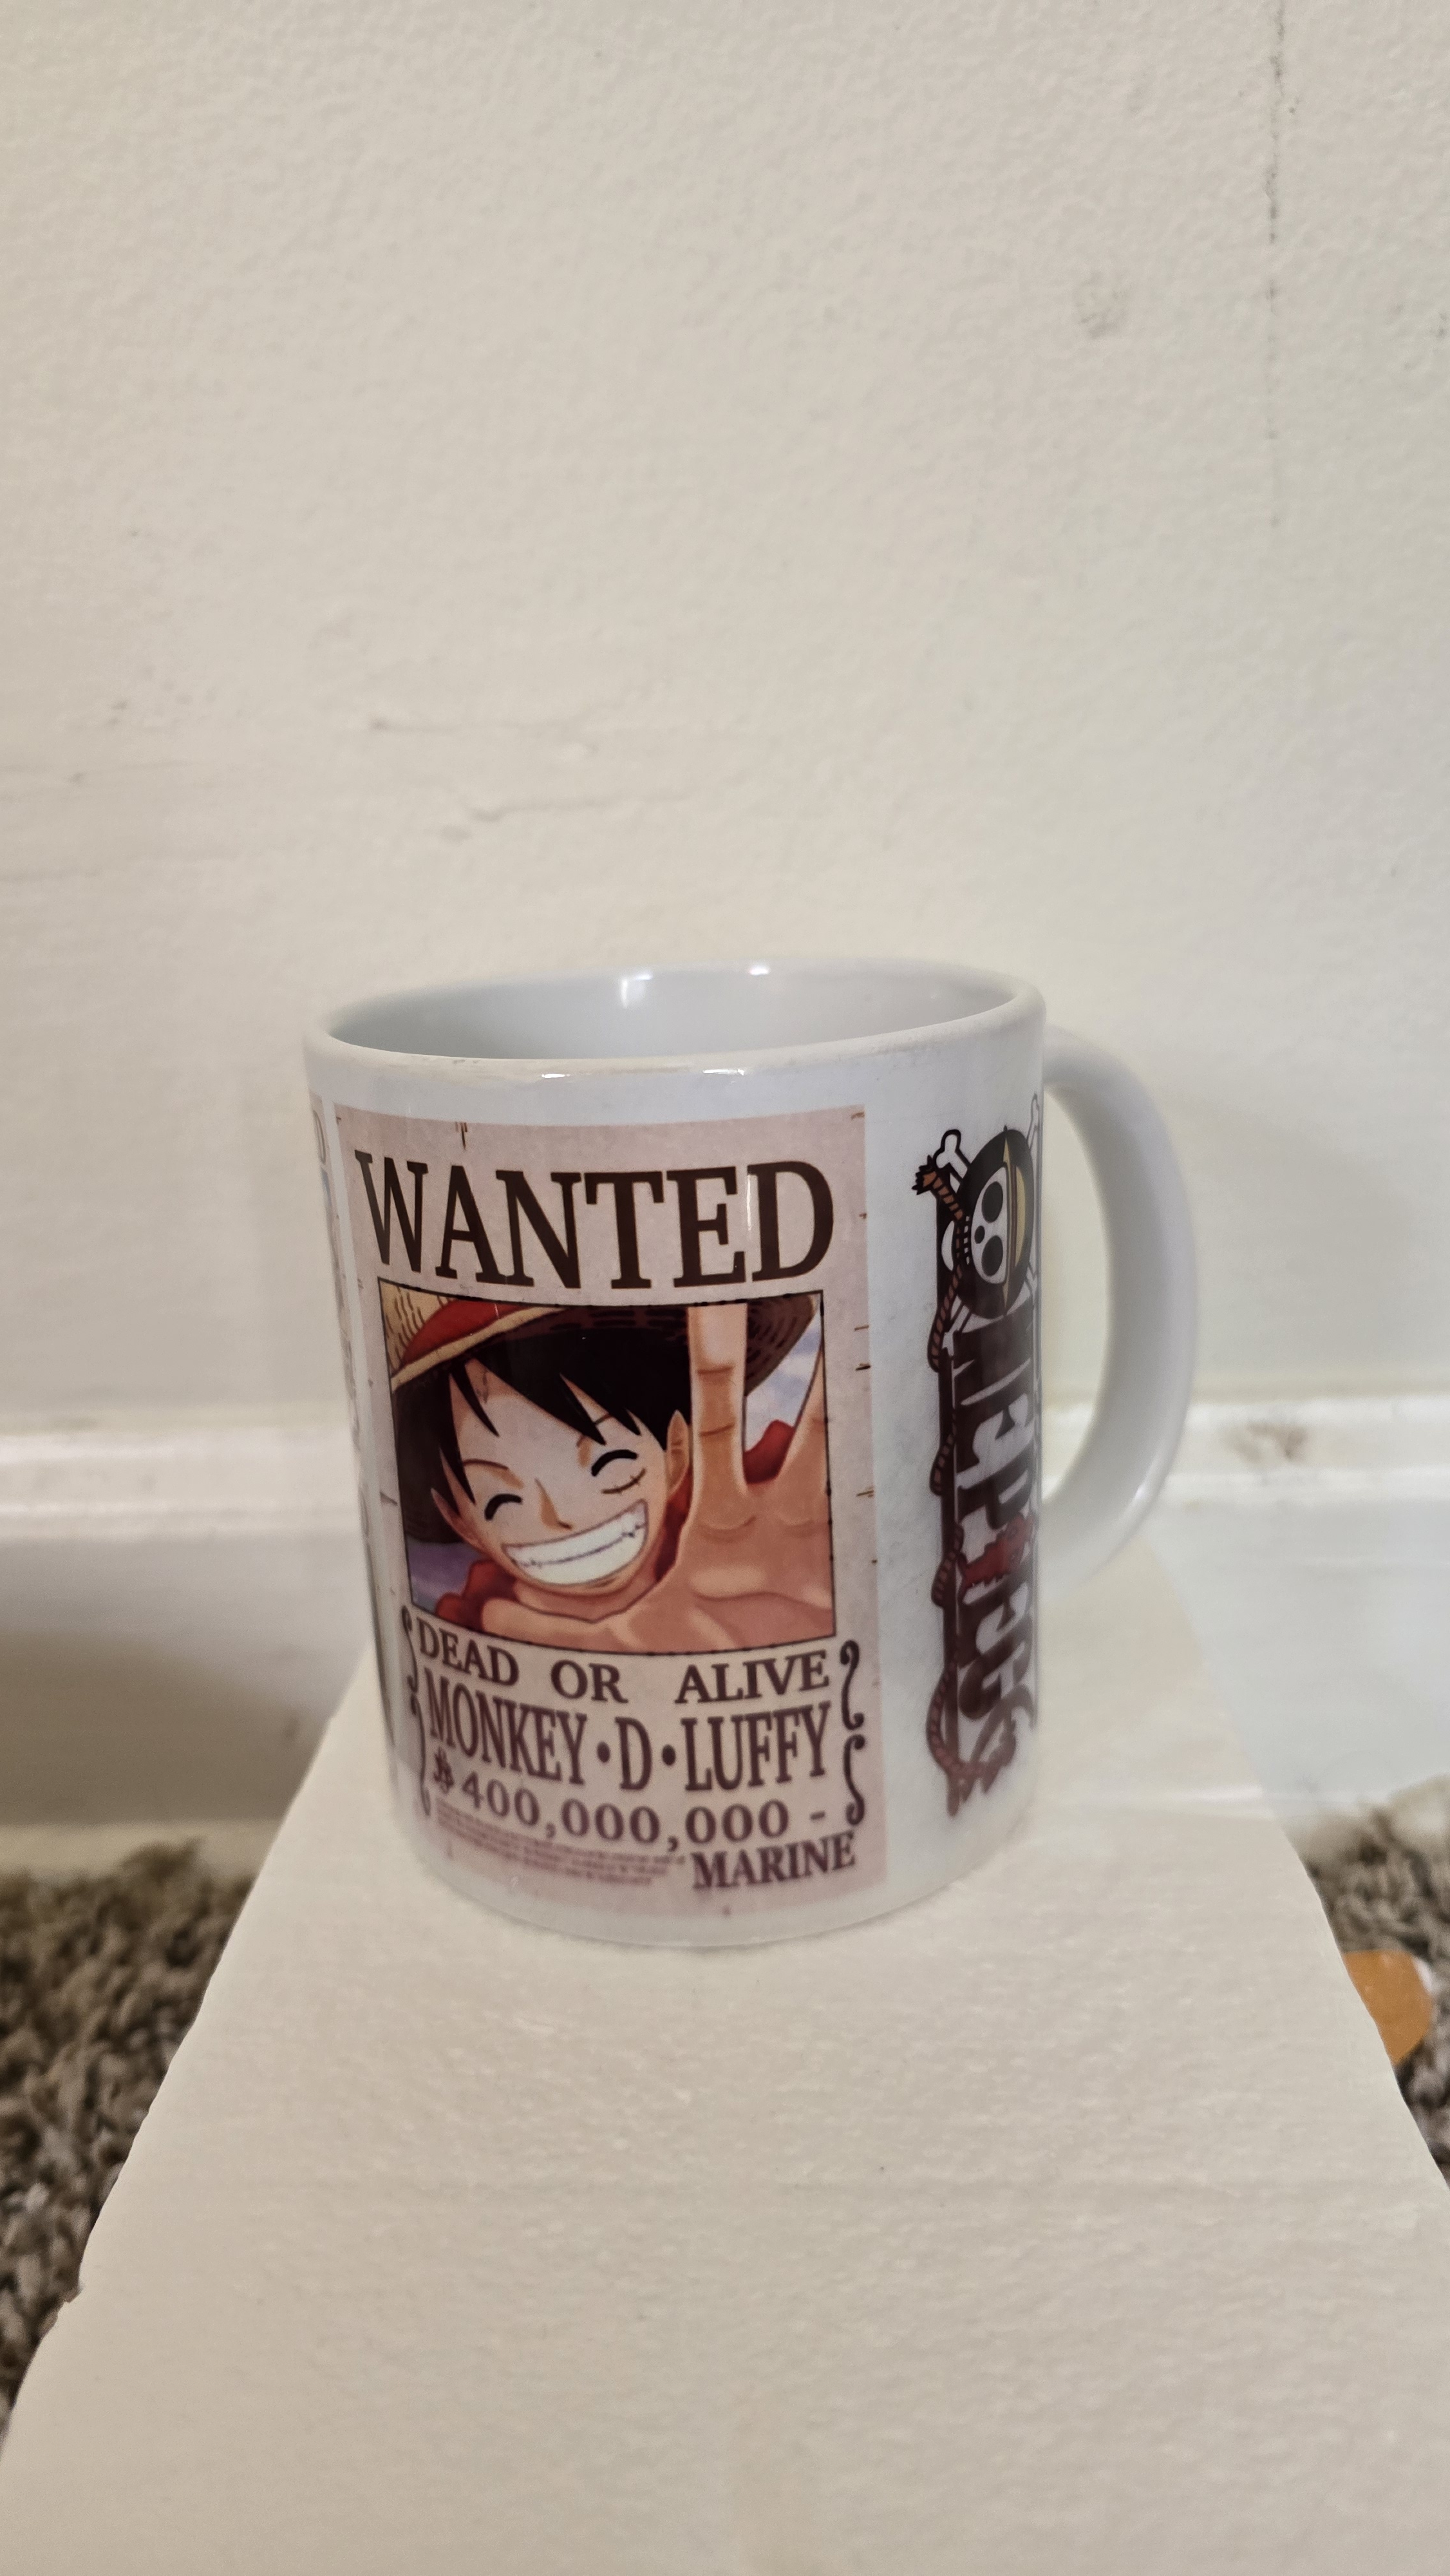mug: (265, 925, 1287, 1983)
